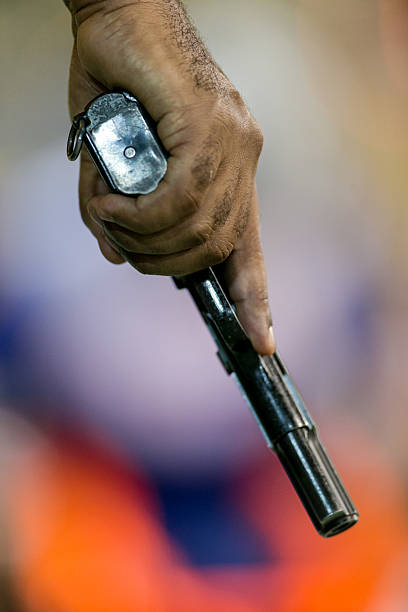pistol: (67, 89, 372, 565)
